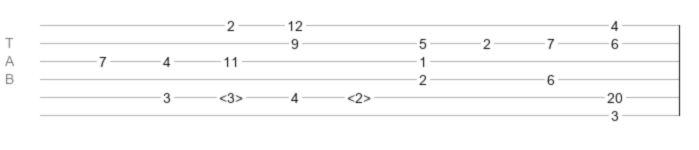1: (419, 54, 427, 64)
11: (223, 54, 239, 64)
12: (287, 18, 303, 28)
2: (227, 18, 235, 28), (419, 72, 427, 82), (483, 36, 491, 46)
20: (607, 90, 623, 100)
3: (163, 90, 171, 100), (611, 108, 619, 118)
4: (163, 54, 171, 64), (291, 90, 299, 100), (611, 18, 619, 28)
5: (419, 36, 427, 46)
6: (547, 72, 555, 82), (611, 36, 619, 46)
7: (99, 54, 107, 64), (547, 36, 555, 46)
9: (291, 36, 299, 46)
harmonic: (219, 90, 243, 100), (347, 90, 371, 100)
